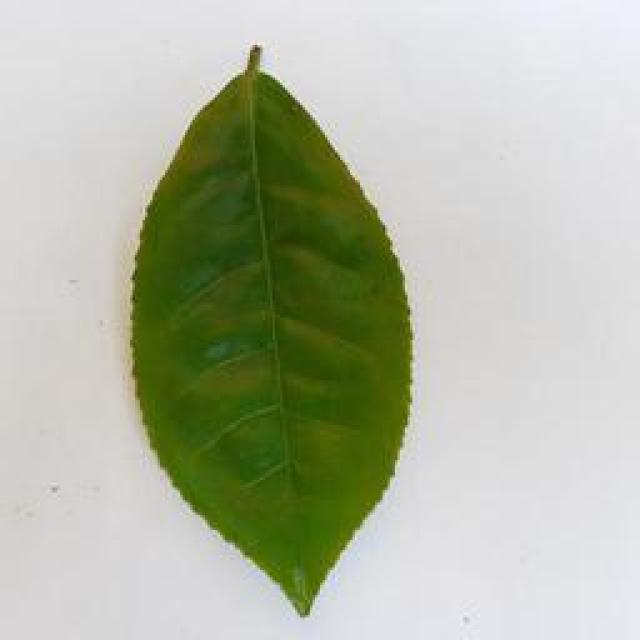Healthy: (135, 41, 423, 613)
